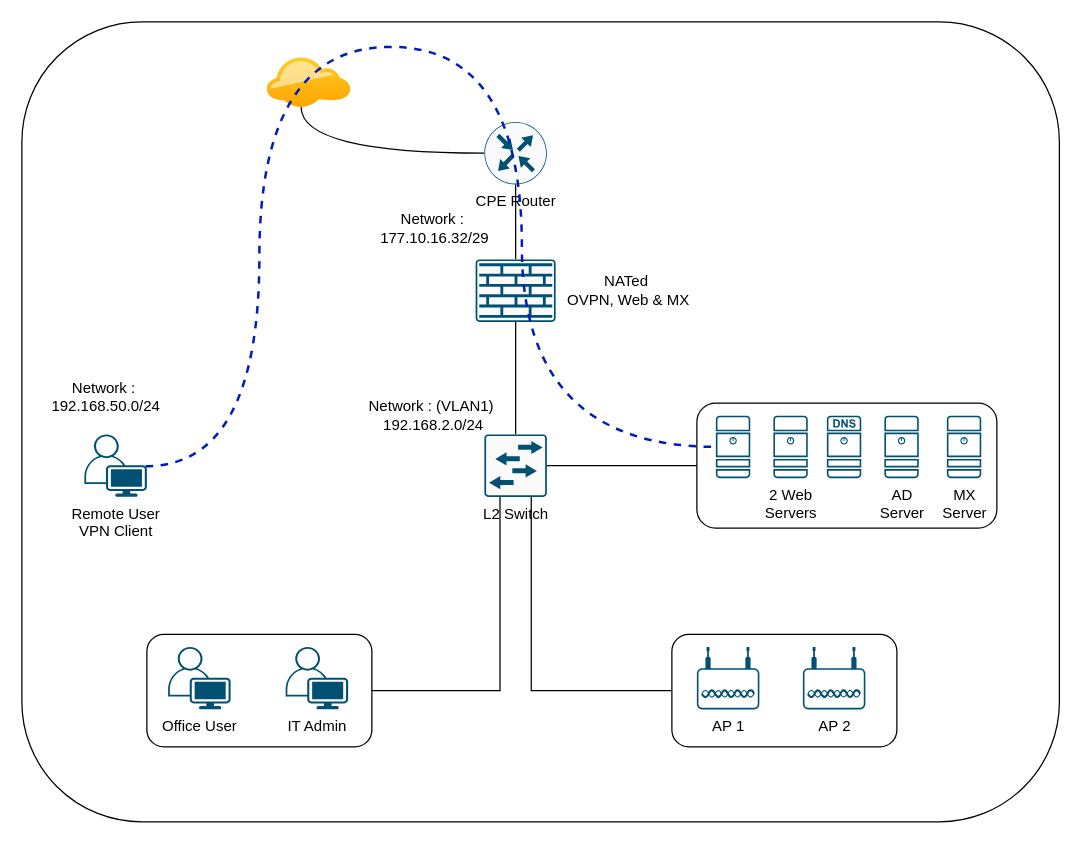
The diagram is 1081 pixels wide and 844 high, and some of its shapes have lost their labels. The centre of each missing label's shape, as x and y in pixels:
"DNS Server" belongs at [843,446].
"Internet" belongs at [308,81].
"Office Firewall" belongs at [515,290].
"OVPN Server" belongs at [732,446].
